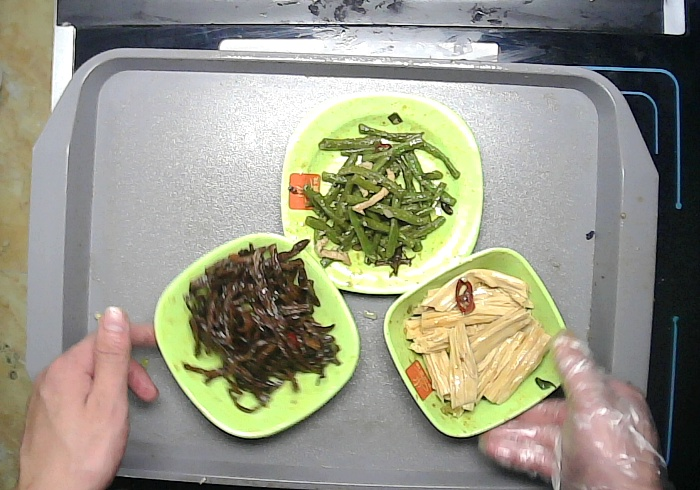SHKJ-Lv_Se_Cai_Die: (154, 231, 359, 438)
SHKJ-Lv_Se_Si_Fang_Cai_Die: (277, 90, 486, 295)
SHKJ-Lv_Se_Xiao_Fang_Die: (381, 246, 570, 441)
